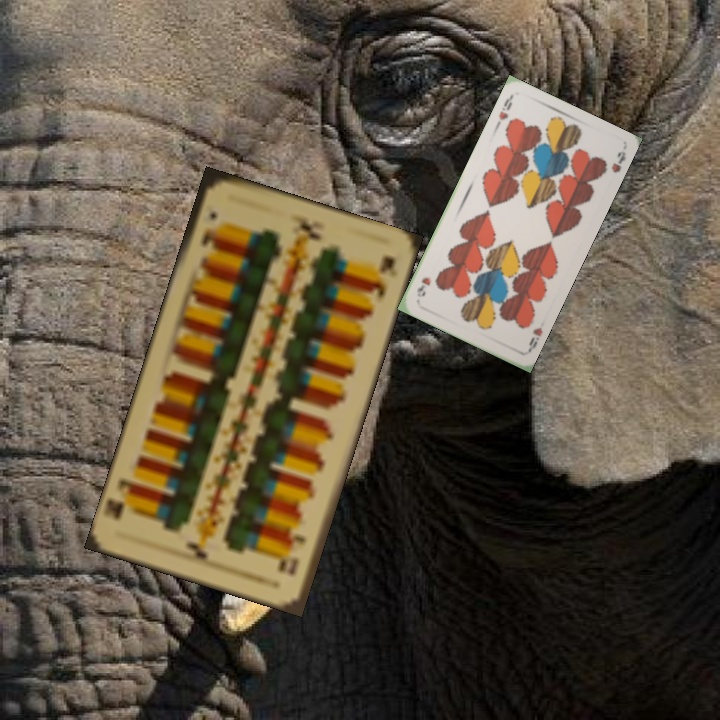E10: (279, 531, 308, 578), (197, 207, 220, 252)
H9: (524, 323, 545, 355), (494, 92, 515, 123)
